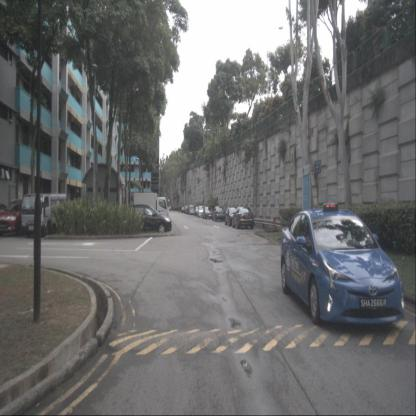vehicle-car: (280, 203, 405, 326), (0, 199, 41, 237), (122, 204, 172, 234), (231, 206, 254, 229), (224, 207, 241, 226), (212, 206, 226, 221), (202, 206, 214, 219), (197, 205, 206, 218), (188, 204, 196, 215), (193, 206, 200, 216), (184, 206, 190, 214), (181, 206, 185, 213)
vehicle-truck: (21, 193, 67, 238), (134, 193, 169, 224)
